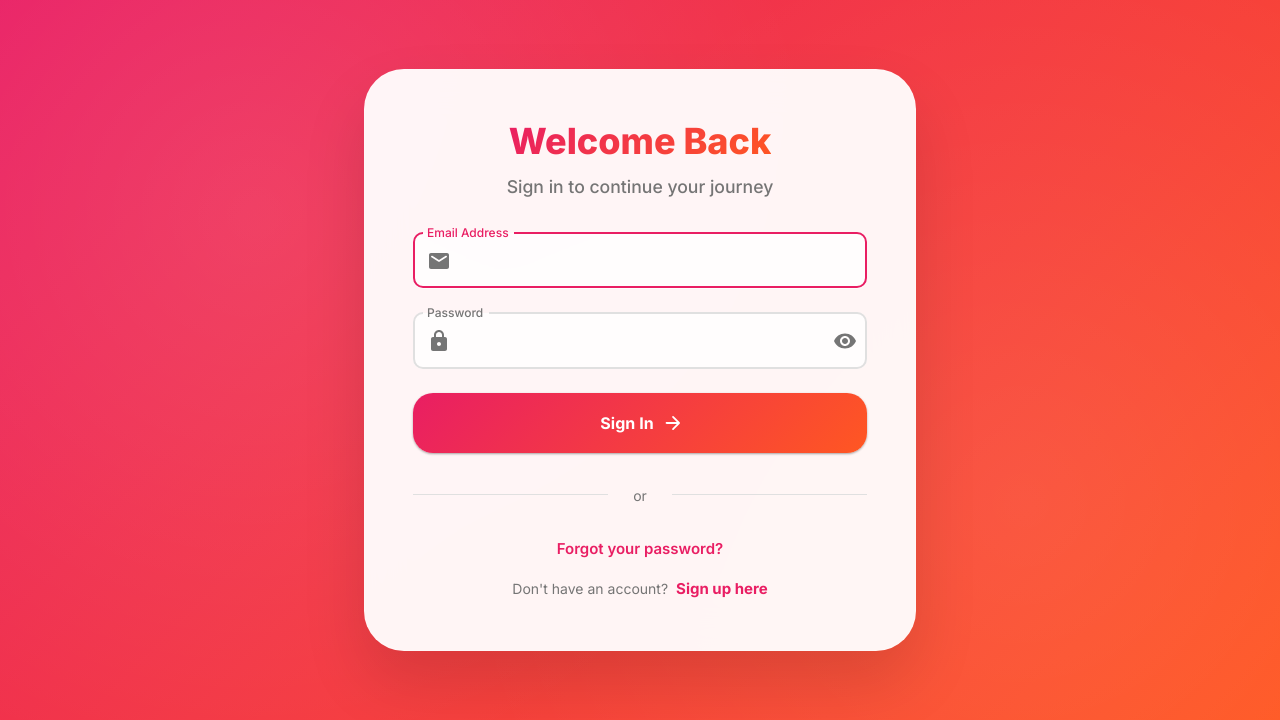
Login Page › shows error for empty fields
The width and height of the screenshot is (1280, 720).
Click the button "Sign In": x=640, y=423 [413,393,867,453]
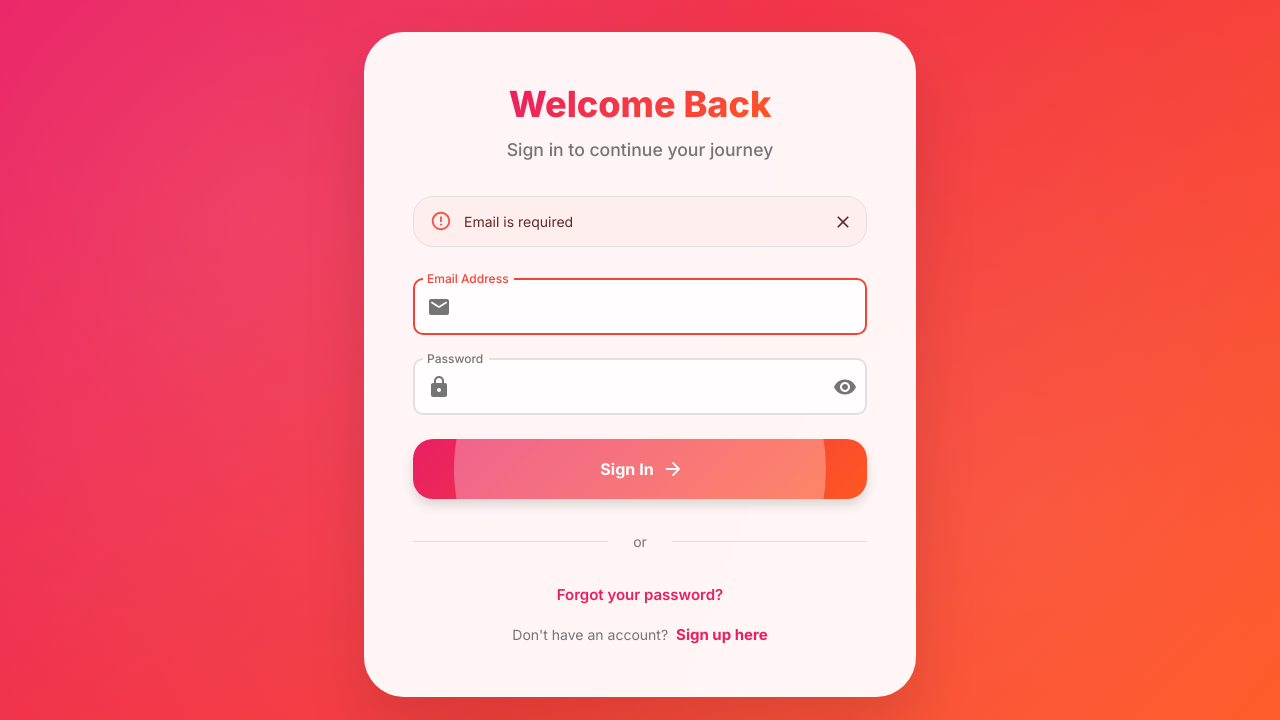
Result: the text "Email is required" is shown at [464,213,573,230]
